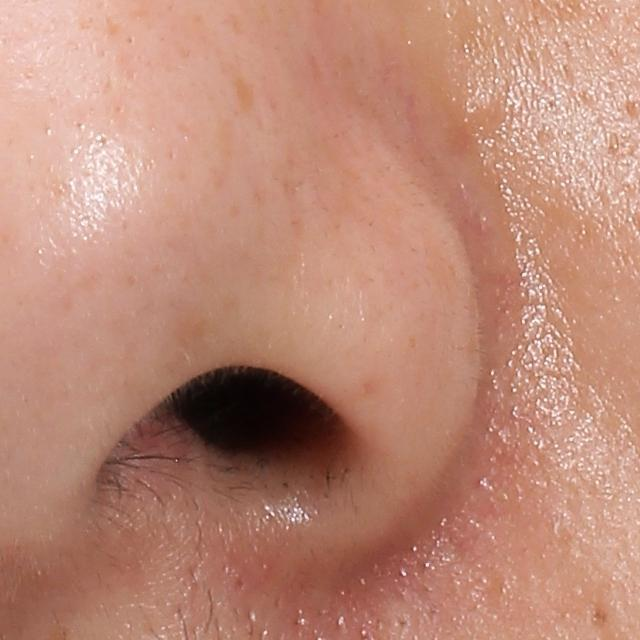melasma: (233, 73, 262, 118)
